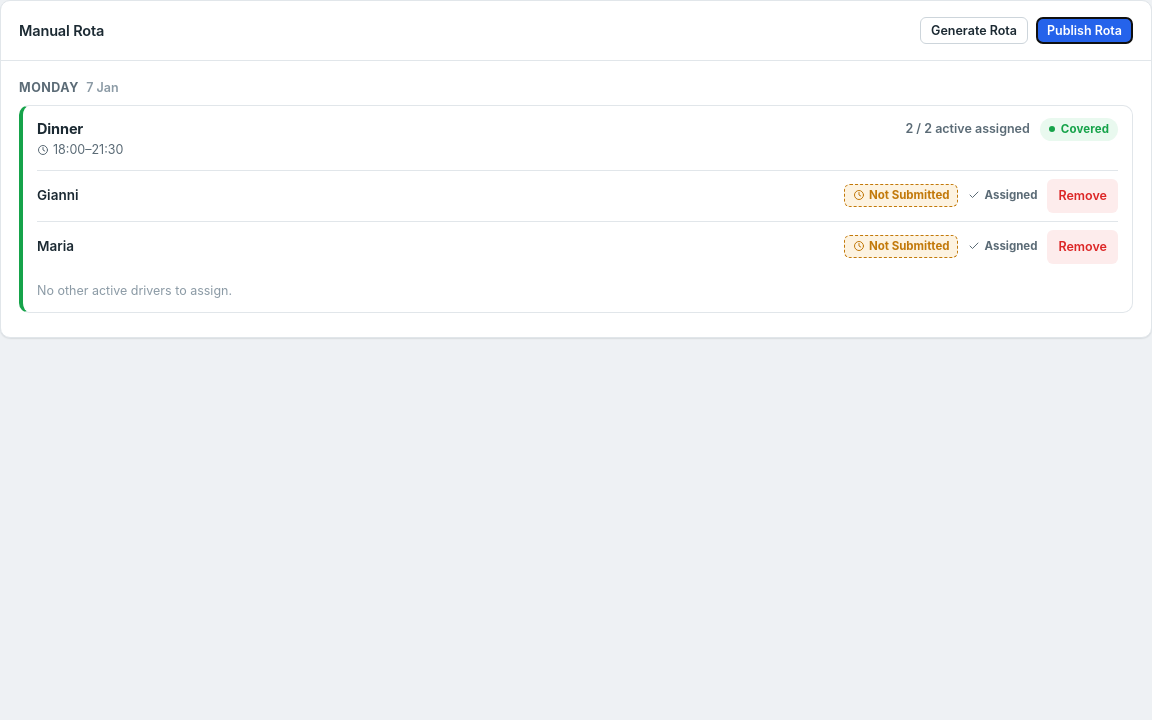
Publish Rota: covered success › the header becomes Published and Generate stays disabled with its existing reason (after the refetch)
Click the button "Publish Rota" at (1084, 30), box [1036,17,1133,44]
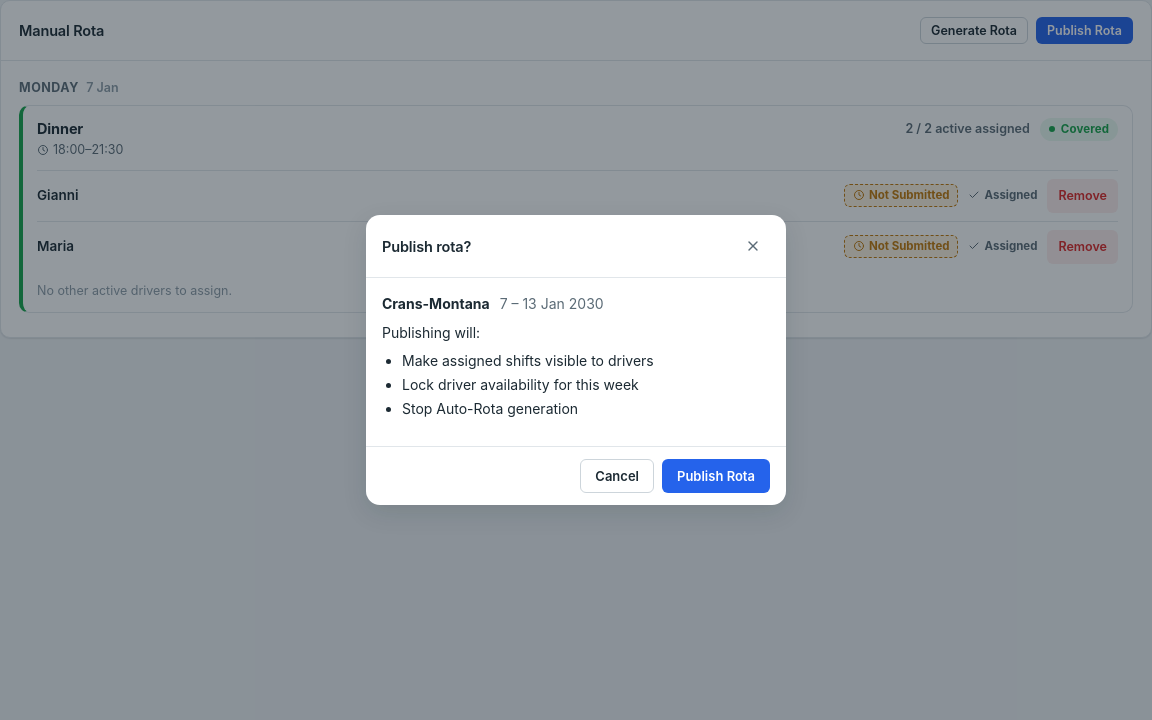
Click the button "Publish Rota" at (716, 476), box [662,459,770,493]
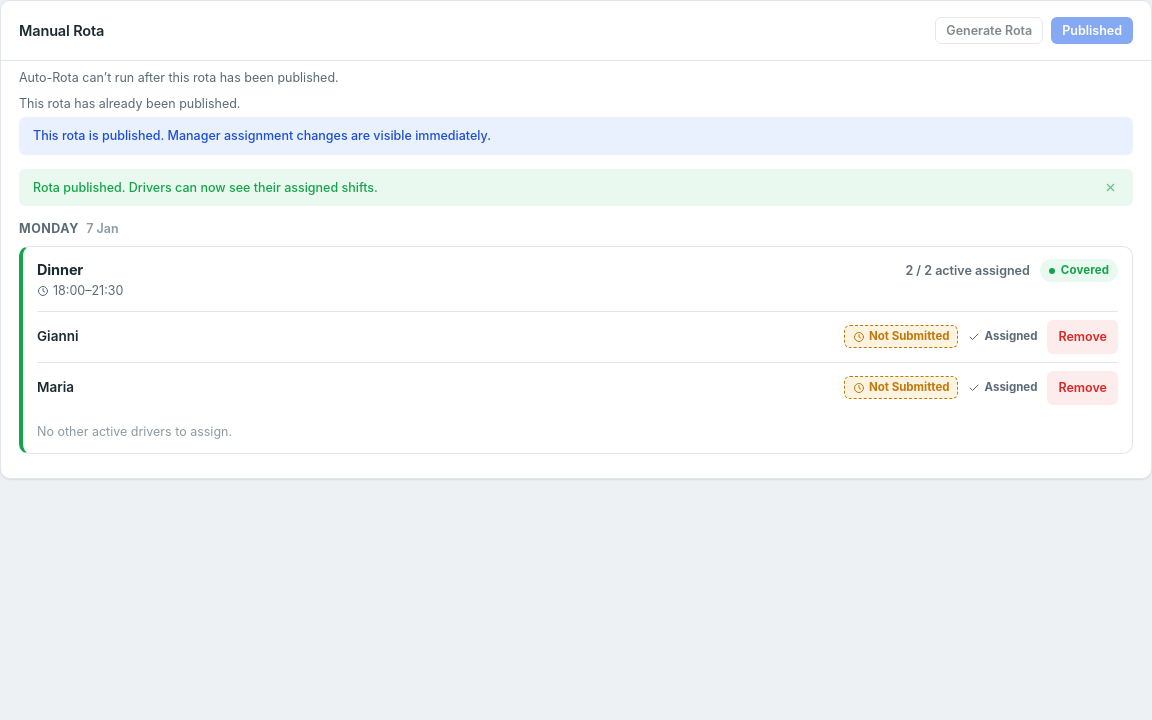
Expected: the text "Rota published. Drivers can now see their assigned shifts." is shown, [33,179,378,196]
Expected: the button "Published" is shown, [1051,17,1133,44]
Expected: the button "Published" is disabled, [1051,17,1133,44]
